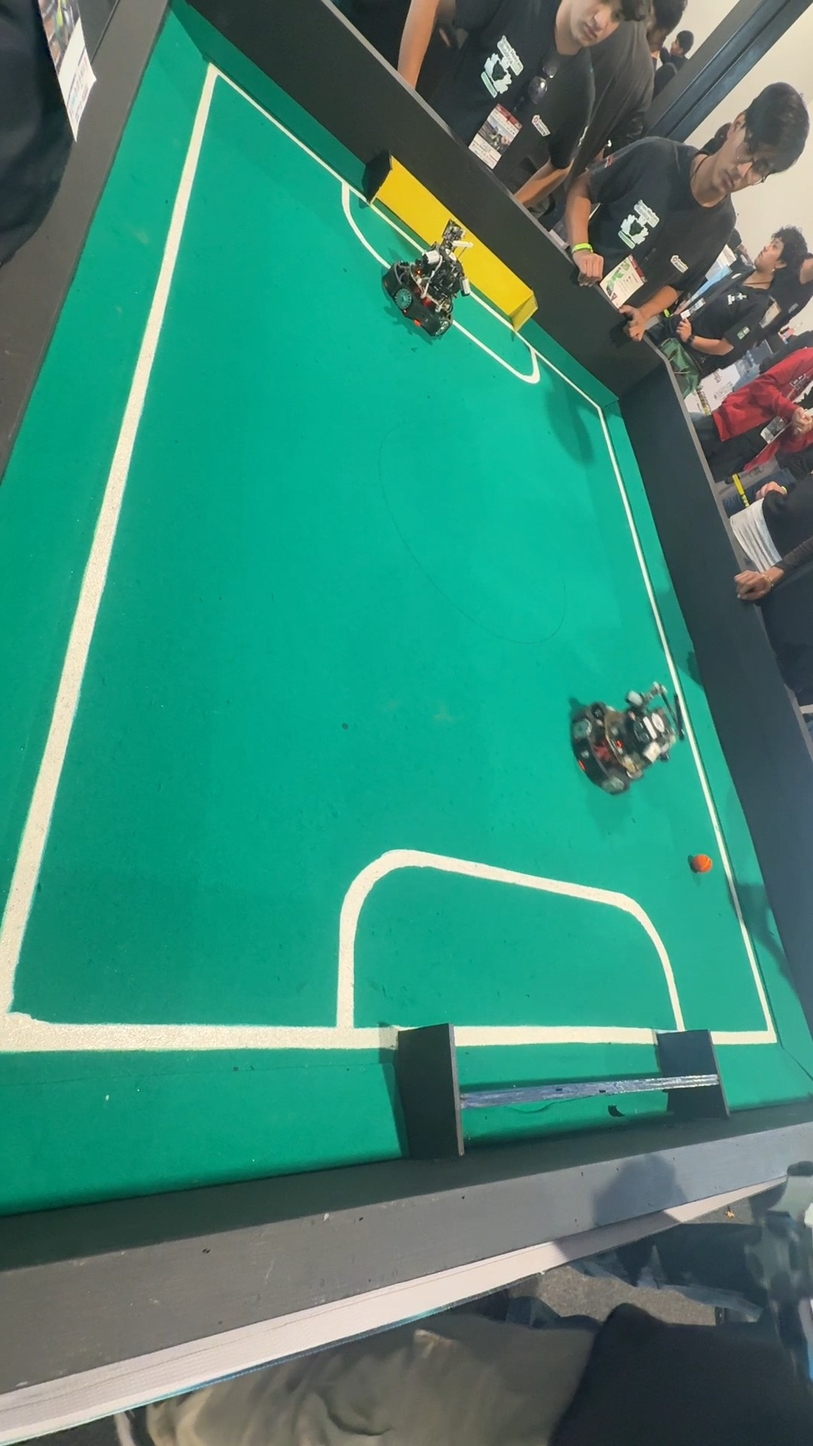Robot: (563, 671, 690, 805), (377, 216, 476, 357)
pelota: (688, 847, 714, 879)
